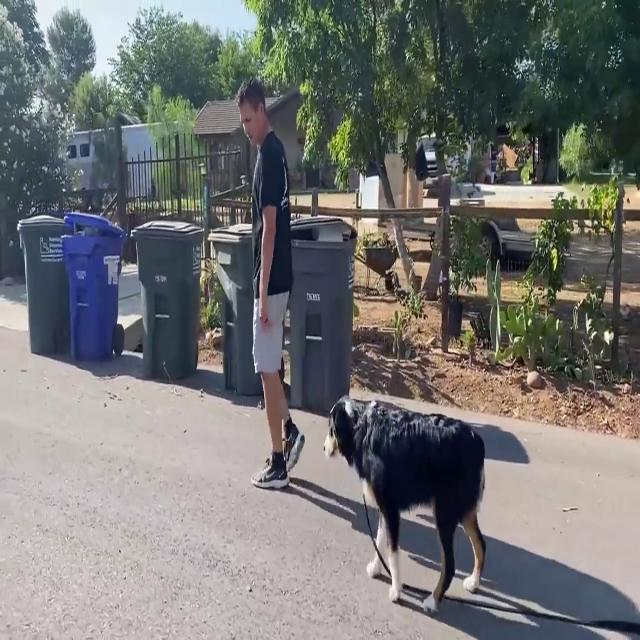Unleashed_Dog: (256, 296, 487, 613)
